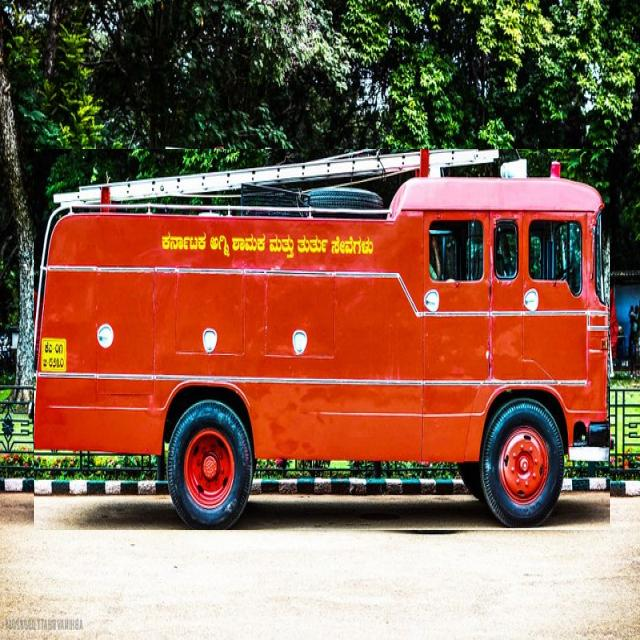emergency: (34, 150, 610, 530)
